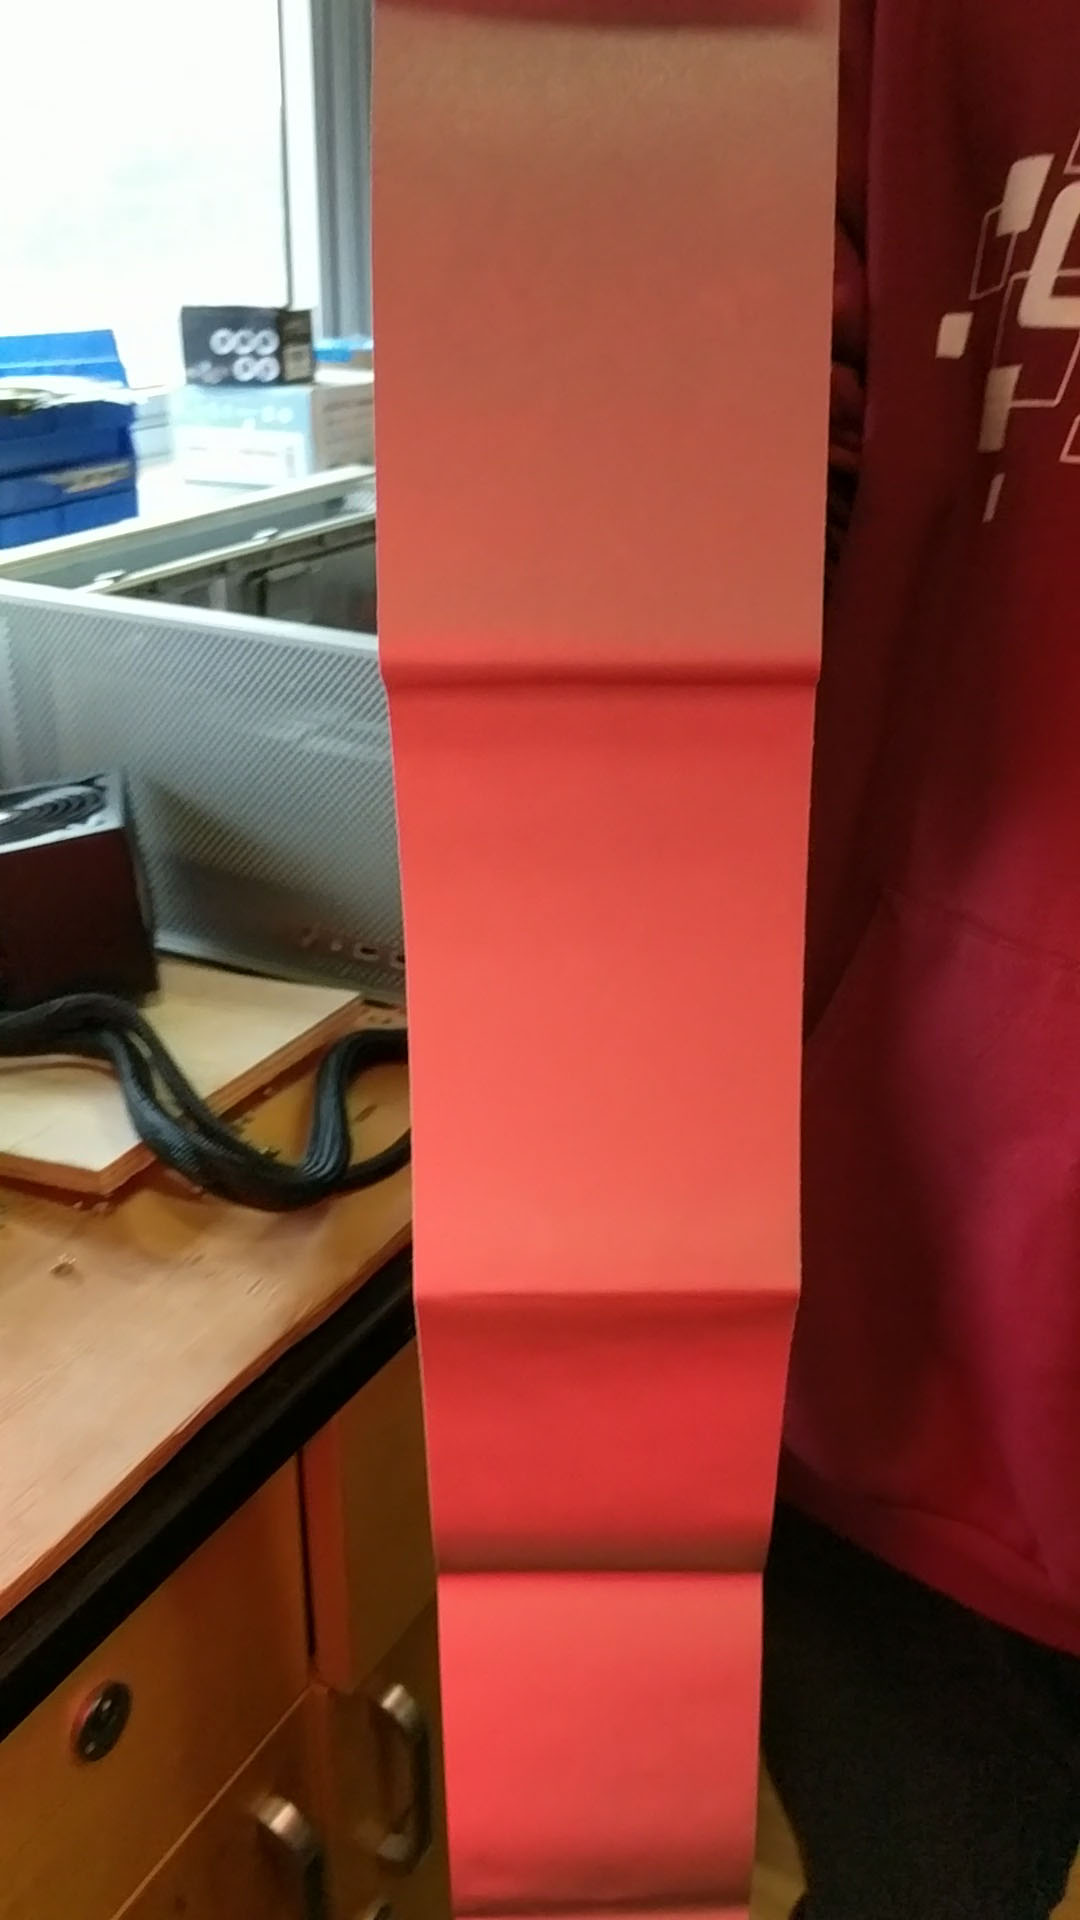gear: (372, 0, 840, 1920)
